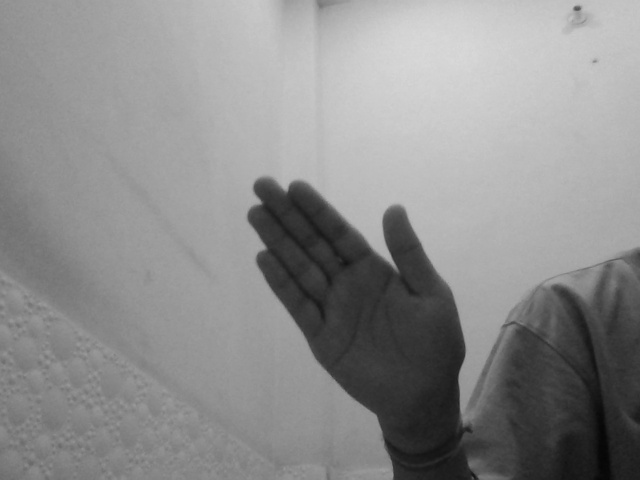Hello: (244, 172, 470, 433)
